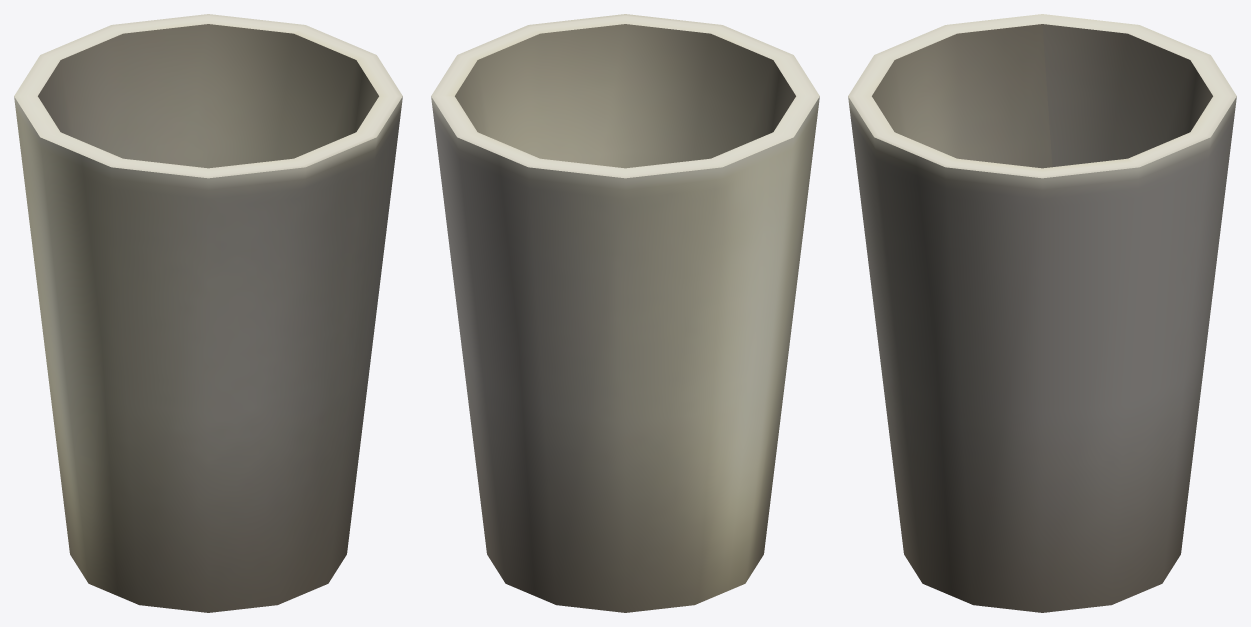
The model's file is SiZheBingFang_01_ShuiBei_01_uv2.FBX.
The picture shows the model from 3 angles, left to right: view 1: azimuth 30°, elevation 25°; view 2: azimuth 150°, elevation 25°; view 3: azimuth 270°, elevation 25°; orthographic projection.
Visible parts, largest first — view 1: pCylinder5; view 2: pCylinder5; view 3: pCylinder5.
Part boxes in pixels (box(x1,y1,x2,y2)): pCylinder5: box(14, 14, 402, 612); pCylinder5: box(431, 14, 819, 612); pCylinder5: box(848, 14, 1236, 612).
Bounding box in the file's own units: 55.75 × 72.49 × 55.75.
